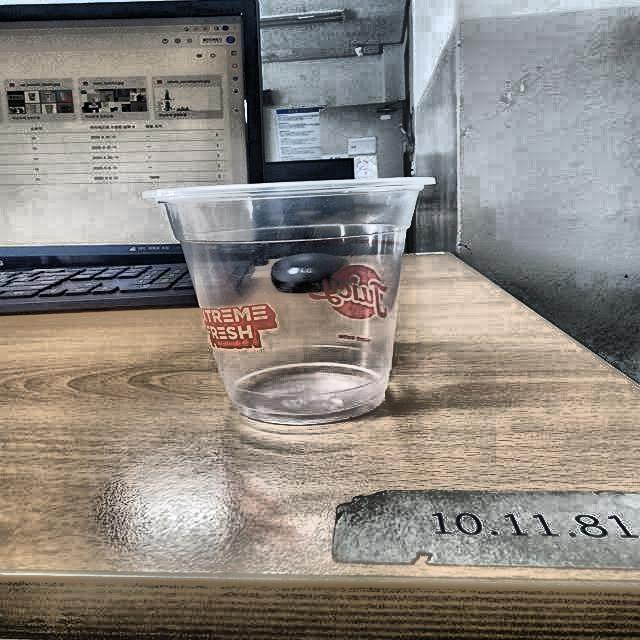plastic cup: (142, 176, 436, 425)
